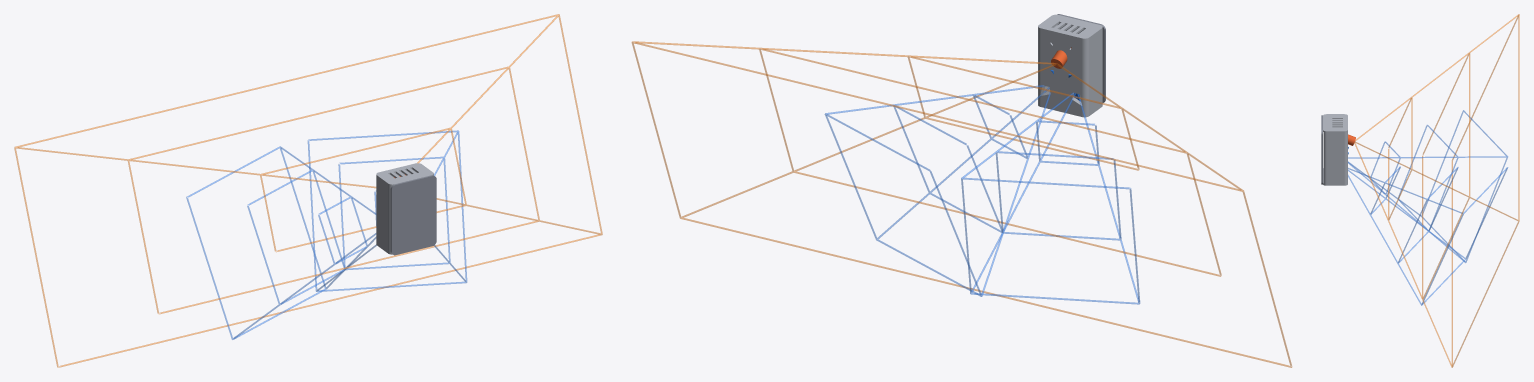
File: sensor_pod_FOV.glb
3 views of the same model, side by side, from view 1: azimuth 30°, elevation 25°; view 2: azimuth 150°, elevation 25°; view 3: azimuth 270°, elevation 25° (orthographic). The views are drawn at different scales.
Parts seen in each view (by area): view 1: REF_fov_cam, PRINT_pod_lid, REF_fov_tof_l, REF_fov_tof_r, PRINT_pod_front; view 2: REF_fov_cam, PRINT_pod_front, REF_fov_tof_l, REF_fov_tof_r; view 3: REF_fov_cam, REF_fov_tof_l, PRINT_pod_front, REF_fov_tof_r.
Part boxes in pixels (x1=…): REF_fov_cam: x1=14, y1=14, x2=602, y2=367; PRINT_pod_lid: x1=390, y1=175, x2=436, y2=255; REF_fov_tof_l: x1=186, y1=146, x2=376, y2=339; REF_fov_tof_r: x1=307, y1=130, x2=467, y2=291; PRINT_pod_front: x1=376, y1=163, x2=433, y2=254; REF_fov_cam: x1=631, y1=41, x2=1292, y2=367; PRINT_pod_front: x1=1038, y1=14, x2=1102, y2=117; REF_fov_tof_l: x1=961, y1=92, x2=1140, y2=304; REF_fov_tof_r: x1=824, y1=85, x2=1050, y2=296; REF_fov_cam: x1=1354, y1=14, x2=1519, y2=367; REF_fov_tof_l: x1=1348, y1=110, x2=1507, y2=262; PRINT_pod_front: x1=1323, y1=114, x2=1347, y2=185; REF_fov_tof_r: x1=1348, y1=166, x2=1507, y2=305.
Bounding box in the file's own units: 895 × 297 × 363.
